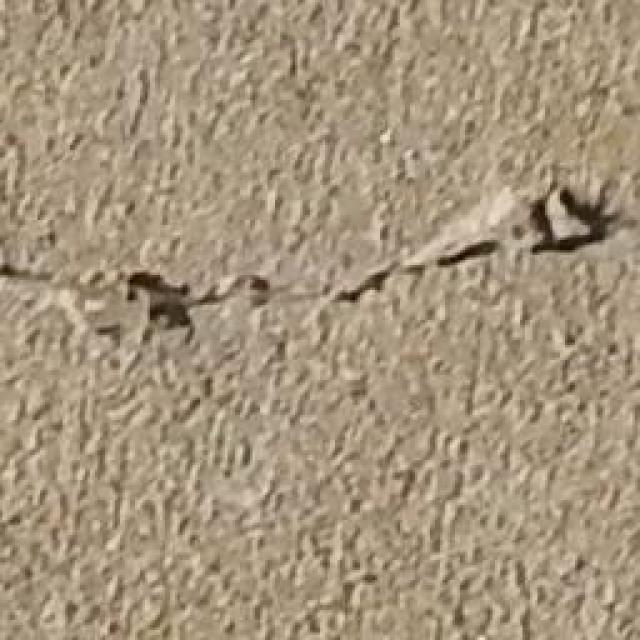concrete-crack: (0, 177, 640, 338)
